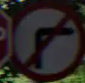Don't turn right: (11, 8, 74, 66)
